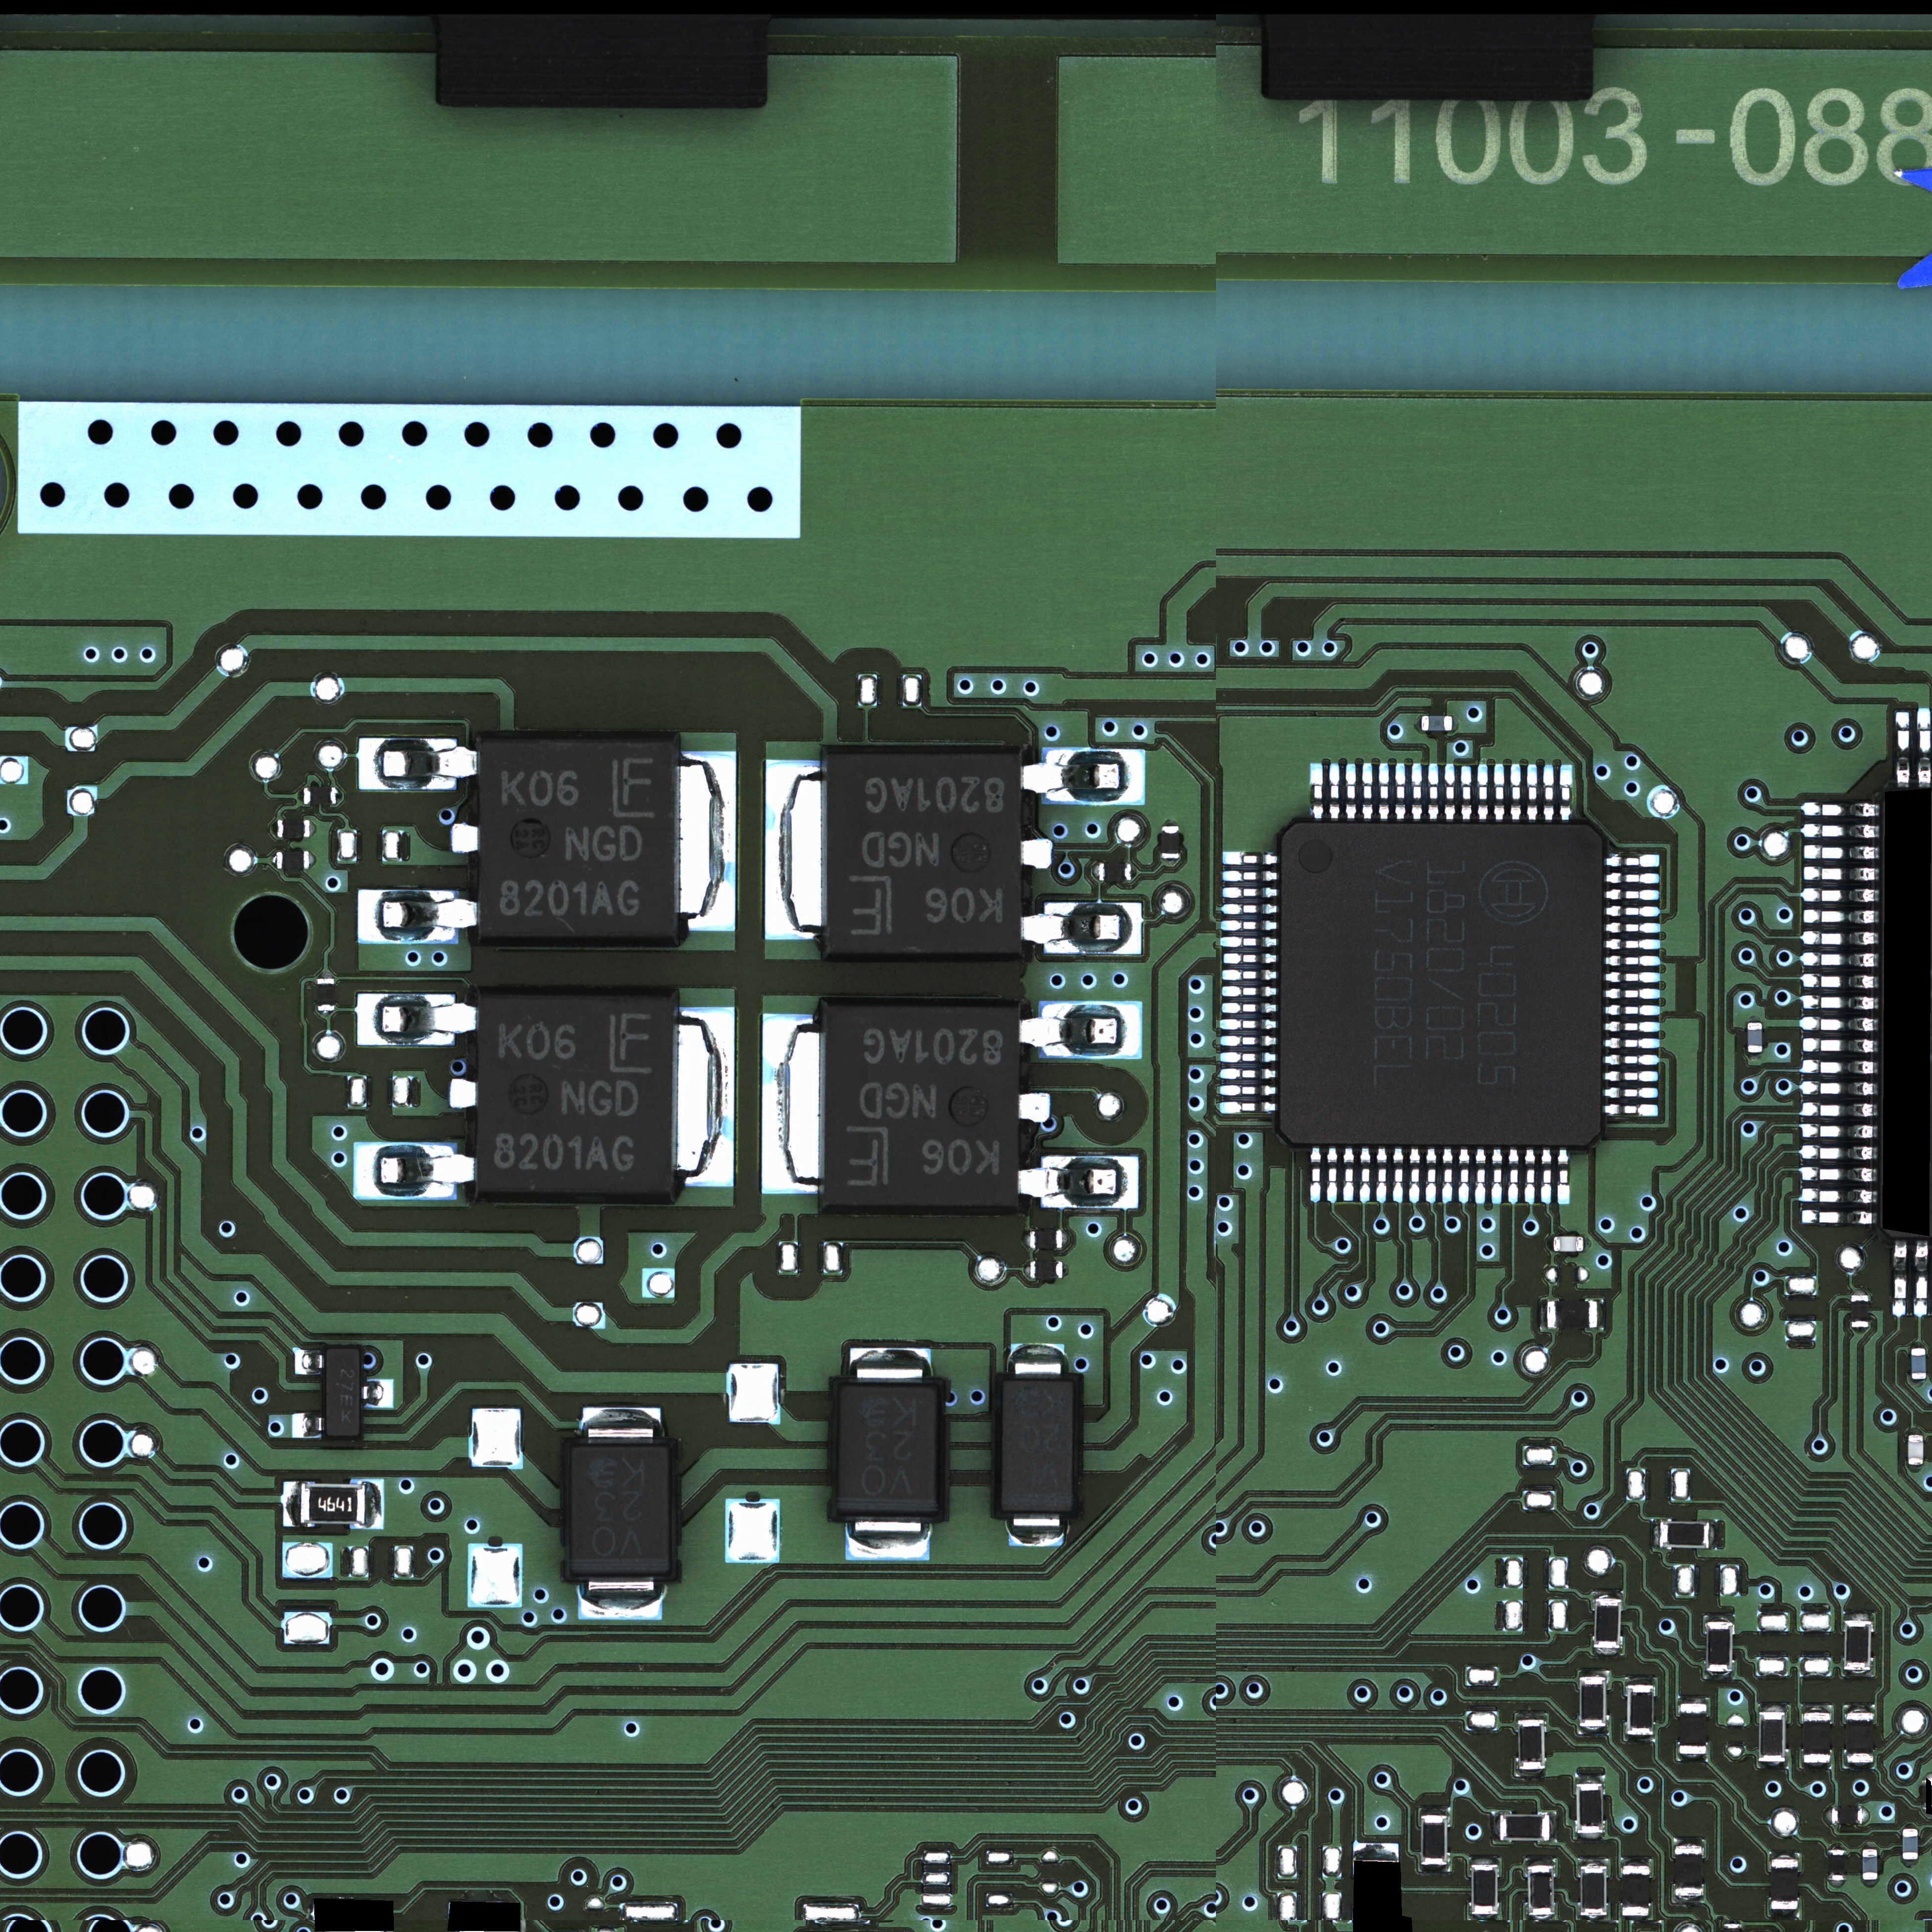Package: (1277, 821, 1603, 1148), (479, 996, 672, 1198), (828, 752, 1021, 954), (826, 1007, 1019, 1207), (481, 740, 672, 941), (837, 1385, 938, 1514), (570, 1445, 671, 1573), (1001, 1380, 1074, 1513), (326, 1346, 361, 1437), (299, 1484, 366, 1523), (1622, 1865, 1651, 1916), (1546, 1300, 1598, 1329), (1679, 1704, 1707, 1753), (1803, 1713, 1831, 1762), (1421, 1815, 1447, 1867), (1675, 1847, 1704, 1895), (1845, 1621, 1872, 1670), (1759, 1713, 1785, 1762), (1771, 1859, 1798, 1909), (1472, 1865, 1499, 1914), (1847, 1713, 1874, 1762), (1518, 1720, 1545, 1769), (1580, 1677, 1606, 1727), (1578, 1783, 1605, 1833), (1582, 1865, 1606, 1916), (1529, 1865, 1553, 1916), (1628, 1684, 1652, 1736), (1707, 1622, 1732, 1672), (1500, 1815, 1550, 1840), (1596, 1599, 1621, 1647), (1660, 1523, 1709, 1546), (1030, 1230, 1063, 1249), (304, 786, 336, 805), (1030, 1261, 1063, 1279), (1162, 826, 1180, 860), (276, 851, 310, 869), (1099, 863, 1131, 881), (1851, 1295, 1868, 1327), (278, 821, 310, 839), (1829, 1849, 1845, 1881), (1831, 1808, 1863, 1824), (1911, 1348, 1927, 1380), (1904, 1829, 1918, 1859), (1863, 1849, 1877, 1879), (1748, 1023, 1762, 1053), (1909, 1435, 1923, 1465), (1422, 717, 1453, 731), (1553, 1237, 1583, 1251)
Solder: (763, 1012, 826, 1194), (764, 759, 828, 941), (674, 752, 738, 932), (672, 1007, 734, 1189), (1019, 1000, 1143, 1060), (1023, 747, 1146, 805), (352, 1143, 478, 1200), (357, 888, 481, 945), (1017, 1155, 1138, 1210), (357, 994, 479, 1047), (357, 738, 479, 791), (1023, 902, 1145, 955), (579, 1573, 663, 1621), (846, 1514, 931, 1560), (580, 1407, 662, 1445), (851, 1346, 931, 1385), (1010, 1343, 1065, 1378), (1008, 1514, 1063, 1546), (1916, 709, 1932, 787), (1801, 1189, 1877, 1205), (1801, 1166, 1877, 1182), (1801, 1060, 1877, 1076), (1803, 931, 1879, 947), (1805, 823, 1881, 839), (1895, 711, 1911, 787), (1803, 1081, 1877, 1097), (1801, 1146, 1877, 1161), (1801, 1104, 1877, 1118), (1801, 1125, 1877, 1139), (1801, 954, 1877, 968), (1801, 975, 1877, 989), (1803, 1017, 1879, 1031), (1803, 996, 1879, 1010), (1803, 888, 1879, 902), (1803, 909, 1879, 924), (1803, 867, 1879, 881), (1803, 1210, 1877, 1224), (1803, 1039, 1877, 1053), (1805, 801, 1879, 816), (1805, 846, 1879, 860), (1019, 1092, 1051, 1123), (363, 1378, 395, 1408), (1021, 839, 1053, 869), (1914, 1240, 1927, 1316), (1893, 1240, 1905, 1316), (281, 1481, 301, 1527), (366, 1479, 384, 1529), (1309, 763, 1323, 821), (1557, 1148, 1571, 1205), (1559, 764, 1573, 821), (451, 824, 479, 853), (1605, 855, 1660, 869), (1223, 851, 1277, 865), (449, 1079, 476, 1108), (292, 1414, 324, 1437), (1353, 1844, 1399, 1859), (1219, 1102, 1277, 1115), (1219, 1035, 1277, 1047), (1219, 1051, 1277, 1063), (1219, 1085, 1277, 1097), (1394, 763, 1407, 821), (1221, 886, 1277, 899), (1605, 906, 1661, 918), (1605, 1021, 1661, 1033), (1221, 985, 1277, 998), (1221, 1001, 1277, 1014), (1221, 920, 1277, 932), (1221, 902, 1277, 915), (1493, 764, 1506, 821), (1605, 971, 1661, 984), (1605, 922, 1661, 934), (1221, 936, 1277, 948), (294, 1352, 324, 1375), (1605, 1104, 1660, 1116), (1460, 766, 1472, 821), (1605, 1070, 1660, 1083), (1408, 1148, 1421, 1203), (1605, 872, 1660, 885), (1219, 1019, 1277, 1030), (1378, 763, 1389, 821), (1219, 1069, 1277, 1079), (1543, 764, 1553, 823), (1362, 763, 1373, 821), (1329, 763, 1339, 821), (1428, 763, 1438, 821), (1412, 763, 1422, 821), (1345, 763, 1355, 821), (1605, 1005, 1661, 1016), (1221, 970, 1277, 980), (1507, 1148, 1518, 1205), (1327, 1146, 1338, 1203), (1605, 989, 1661, 1000), (1444, 764, 1454, 821), (1605, 1039, 1661, 1049), (1605, 939, 1661, 950), (1525, 1148, 1536, 1205), (1511, 764, 1522, 821), (1491, 1148, 1502, 1205), (1527, 764, 1537, 821), (1605, 955, 1661, 966), (1477, 764, 1488, 821), (1442, 1148, 1453, 1205), (1541, 1148, 1552, 1205), (1223, 870, 1277, 881), (1426, 1148, 1437, 1203), (1476, 1148, 1486, 1203), (1605, 890, 1660, 901), (1392, 1148, 1403, 1203), (1376, 1148, 1387, 1203), (1605, 1054, 1660, 1065), (1361, 1148, 1371, 1203), (1223, 954, 1277, 964), (1458, 1148, 1468, 1203), (1605, 1088, 1658, 1099), (1343, 1148, 1353, 1201), (1311, 1146, 1320, 1203), (1709, 1520, 1720, 1550), (1576, 1727, 1610, 1736), (1844, 1762, 1877, 1771), (1844, 1704, 1875, 1713), (1767, 1909, 1799, 1918), (1672, 1895, 1704, 1904), (1704, 1614, 1736, 1622), (1842, 1670, 1874, 1679), (1525, 1856, 1555, 1865), (1759, 1704, 1789, 1713), (1575, 1775, 1605, 1783), (1491, 1812, 1500, 1842), (1592, 1647, 1622, 1656), (1844, 1612, 1874, 1621), (1769, 1851, 1799, 1859), (1801, 1704, 1831, 1713), (1651, 1518, 1660, 1548), (1704, 1672, 1734, 1681), (1421, 1806, 1451, 1815), (1677, 1753, 1707, 1762), (1801, 1762, 1831, 1771), (1578, 1670, 1610, 1677), (1468, 1858, 1500, 1865), (1621, 1858, 1652, 1865), (1539, 1299, 1546, 1330), (1516, 1713, 1548, 1720), (1592, 1591, 1624, 1598), (1674, 1838, 1706, 1845), (1514, 1769, 1546, 1776), (1624, 1736, 1656, 1743), (1626, 1677, 1656, 1684), (1575, 1833, 1605, 1840), (1598, 1299, 1605, 1329), (1550, 1812, 1557, 1842), (1759, 1762, 1789, 1769), (1679, 1697, 1707, 1704), (1468, 1914, 1502, 1920), (1419, 1867, 1451, 1872), (1578, 1859, 1608, 1865), (1161, 858, 1182, 865), (1863, 1840, 1879, 1849), (1063, 1230, 1070, 1249), (1851, 1327, 1870, 1334), (1851, 1288, 1870, 1295), (1023, 1230, 1030, 1249), (1828, 1881, 1845, 1888), (1523, 1916, 1559, 1920), (1828, 1842, 1845, 1849), (271, 821, 278, 839), (310, 851, 317, 869), (336, 787, 343, 805), (297, 787, 304, 805), (1162, 819, 1180, 826), (1863, 1806, 1870, 1824), (1576, 1916, 1608, 1920), (1863, 1879, 1879, 1886), (1746, 1017, 1762, 1024), (1907, 1428, 1923, 1435), (1911, 1380, 1927, 1387), (1621, 1916, 1651, 1920), (1911, 1341, 1925, 1348), (1131, 865, 1138, 879), (1092, 865, 1099, 879), (1583, 1237, 1591, 1251), (1453, 717, 1460, 731), (1415, 717, 1422, 731), (1904, 1822, 1918, 1829), (311, 821, 317, 839), (1063, 1261, 1069, 1279), (1024, 1261, 1030, 1279), (1902, 1859, 1918, 1865), (1907, 1465, 1923, 1470), (1826, 1808, 1831, 1824), (1548, 1235, 1553, 1251), (1748, 1053, 1762, 1058), (272, 853, 276, 869)
